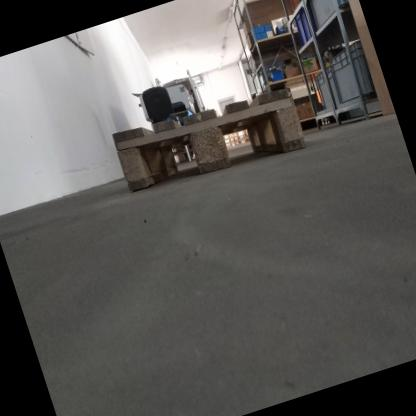BoxFace: (110, 82, 311, 193)
